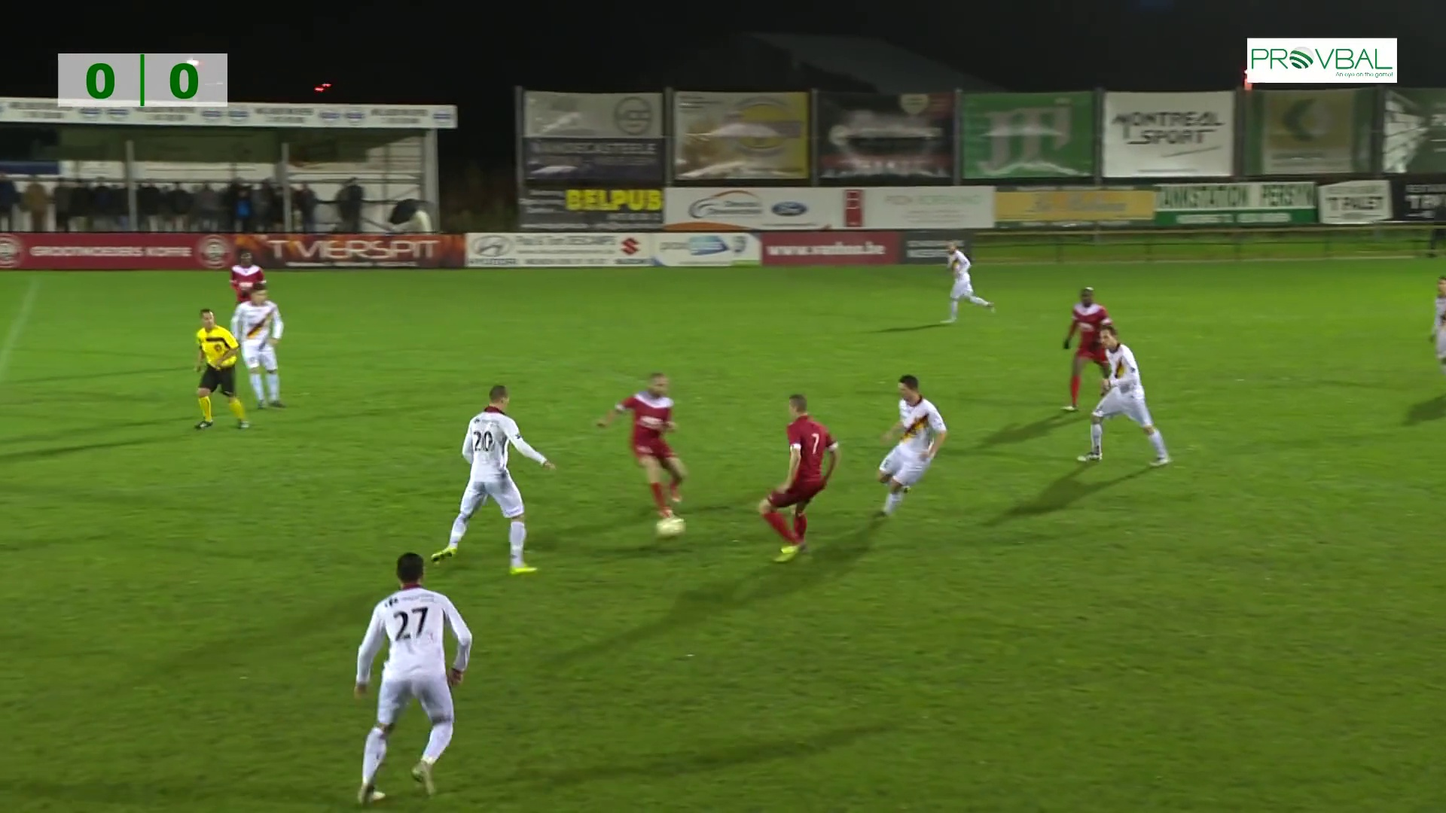red_team: (593, 372, 692, 538), (752, 392, 840, 569), (1057, 276, 1112, 417), (230, 245, 271, 306)
referee: (191, 304, 252, 427)
white_team: (359, 549, 474, 805), (438, 388, 544, 580), (1084, 327, 1172, 468), (879, 372, 948, 516), (235, 282, 290, 410), (942, 238, 996, 327)
